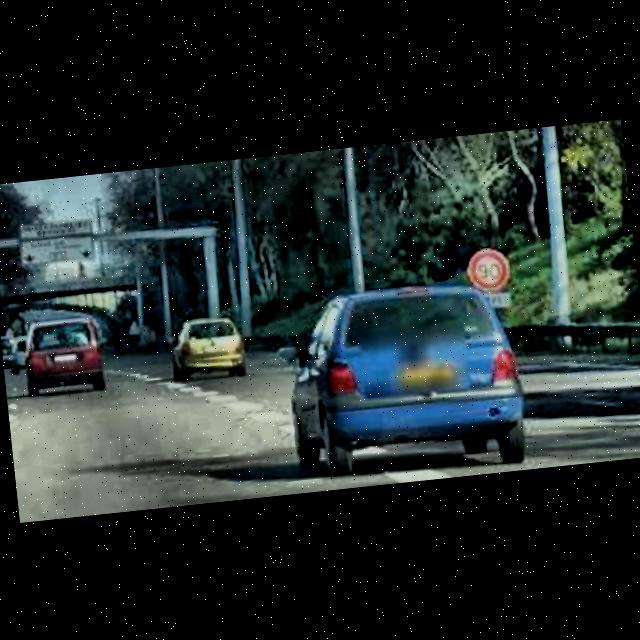speed_90: (466, 248, 511, 288)
